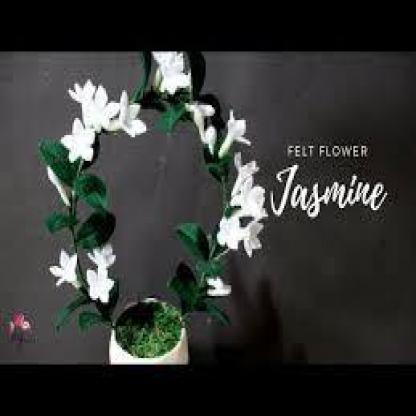Melati: (210, 145, 290, 258), (49, 81, 146, 171), (38, 246, 134, 306), (191, 96, 247, 158)
